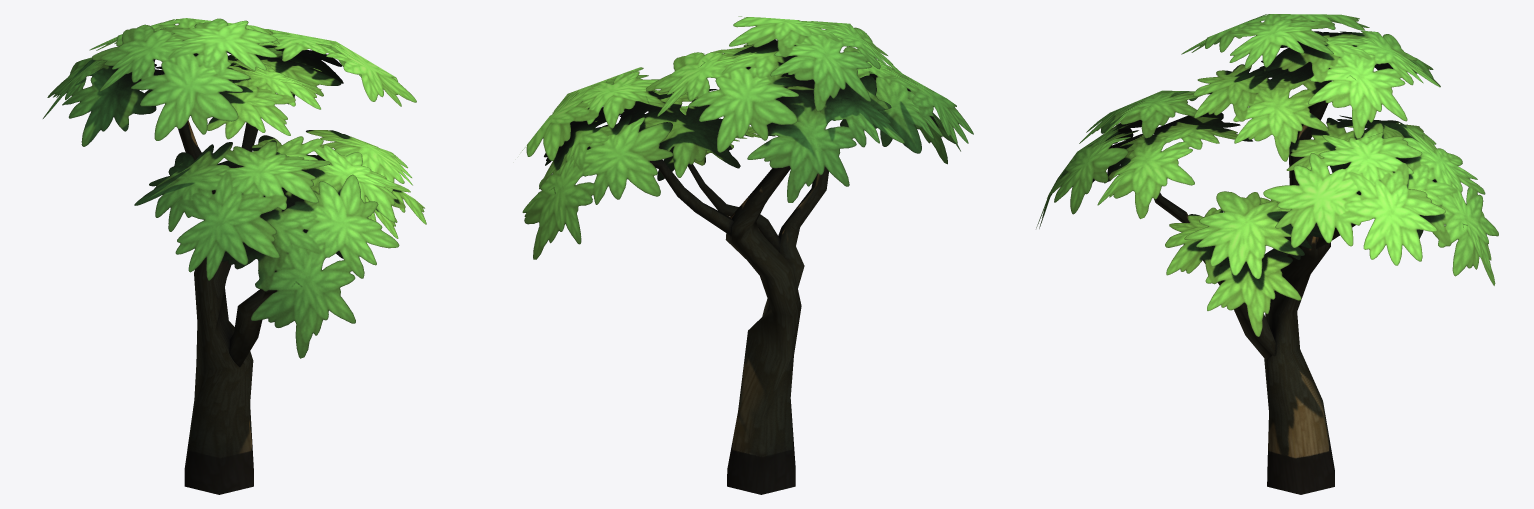
Rendered from Mod_WM_Tree_Pine_07.fbx.
3 renders of one model, left to right at view 1: azimuth 30°, elevation 25°; view 2: azimuth 150°, elevation 25°; view 3: azimuth 270°, elevation 25°, orthographic. The views are drawn at different scales.
Parts seen in each view (by area): view 1: polySurface315; view 2: polySurface315; view 3: polySurface315.
Boxes of the visible parts, box(x1,y1,x2,y2) form: polySurface315: box(43, 18, 426, 494); polySurface315: box(522, 16, 973, 494); polySurface315: box(1036, 14, 1498, 494).
Bounding box in the file's own units: 140 × 150 × 154.
Materials: 1 (1 with a texture image).
